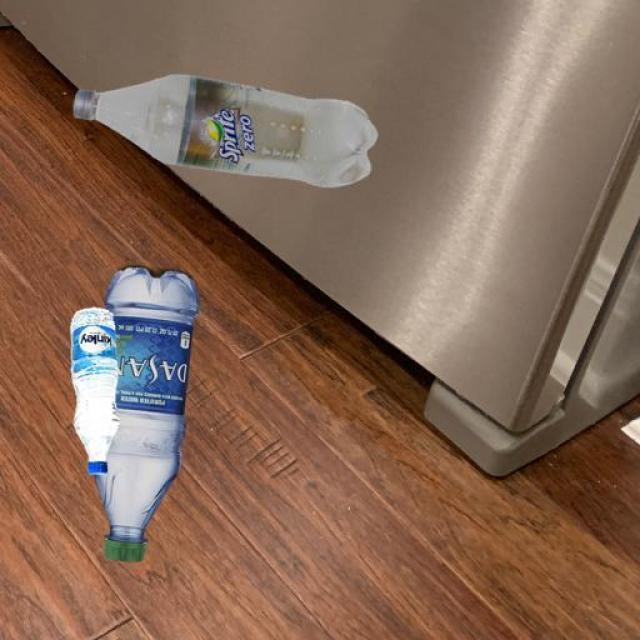bottle: (54, 60, 382, 194), (85, 268, 196, 580)
